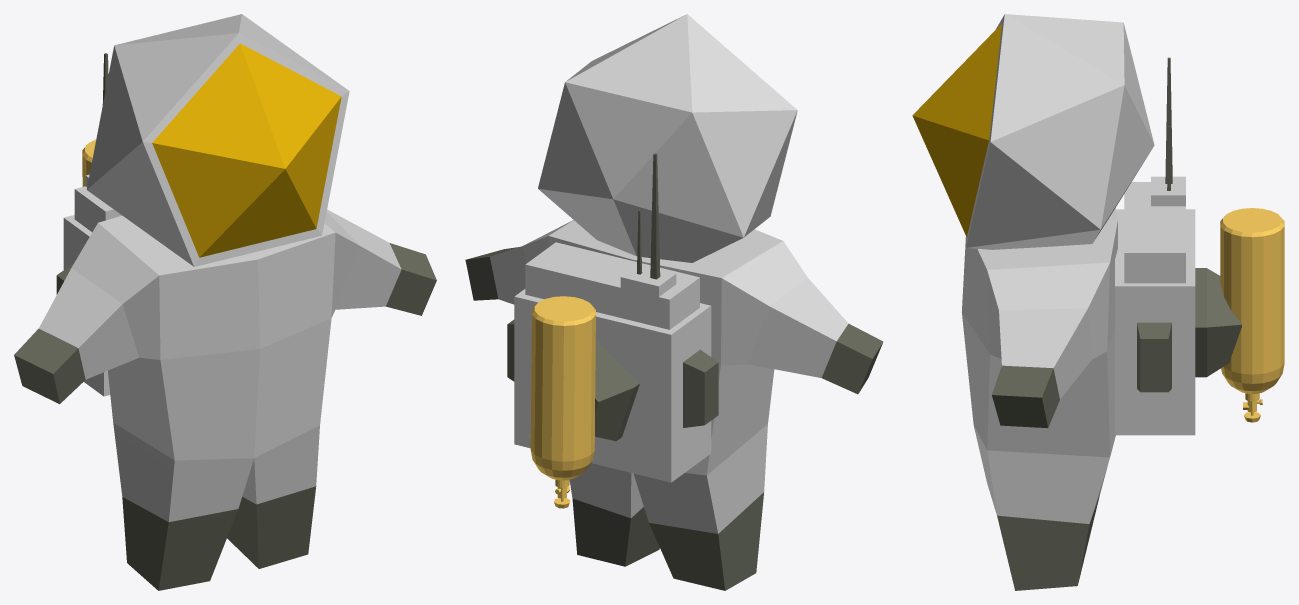
The model's file is Astronauta con tanque.fbx.
3 views of the same model, side by side, from view 1: azimuth 30°, elevation 25°; view 2: azimuth 150°, elevation 25°; view 3: azimuth 270°, elevation 25° (orthographic).
Visible parts, largest first — view 1: Player; view 2: Player, oxycan; view 3: Player, oxycan.
Boxes of the visible parts, <box> form: Player: <box>14,14,436,590</box>; Player: <box>465,14,883,590</box>; oxycan: <box>530,296,595,508</box>; Player: <box>912,14,1241,590</box>; oxycan: <box>1220,208,1284,422</box>.
Size of the model in its own units: 363 by 459 by 285.
